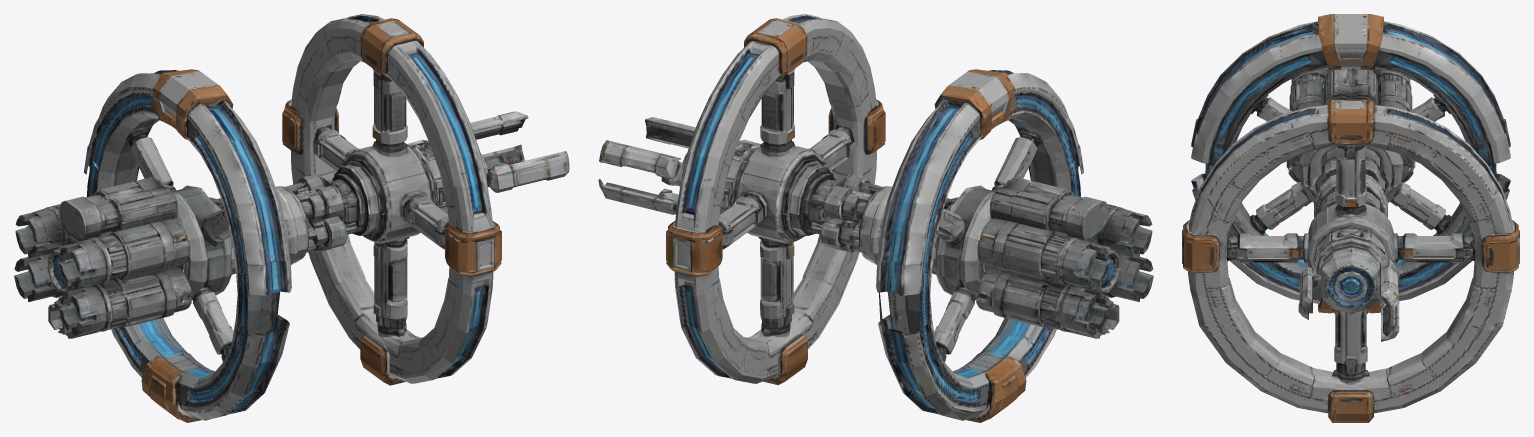
The model's file is space-station.glb.
3 views of the same model, side by side, from view 1: azimuth 30°, elevation 25°; view 2: azimuth 150°, elevation 25°; view 3: azimuth 270°, elevation 25° (orthographic). The views are drawn at different scales.
Visible parts, largest first — view 1: tripo_node_dbc539b0-13df-4aa9-9261-c82e7c6b649b; view 2: tripo_node_dbc539b0-13df-4aa9-9261-c82e7c6b649b; view 3: tripo_node_dbc539b0-13df-4aa9-9261-c82e7c6b649b.
Boxes of the visible parts, <box> form: tripo_node_dbc539b0-13df-4aa9-9261-c82e7c6b649b: <box>14,14,569,422</box>; tripo_node_dbc539b0-13df-4aa9-9261-c82e7c6b649b: <box>598,14,1153,422</box>; tripo_node_dbc539b0-13df-4aa9-9261-c82e7c6b649b: <box>1182,14,1519,422</box>.
Bounding box in the file's own units: 1 × 0.6657 × 0.652.
1 material, 1 textured.
